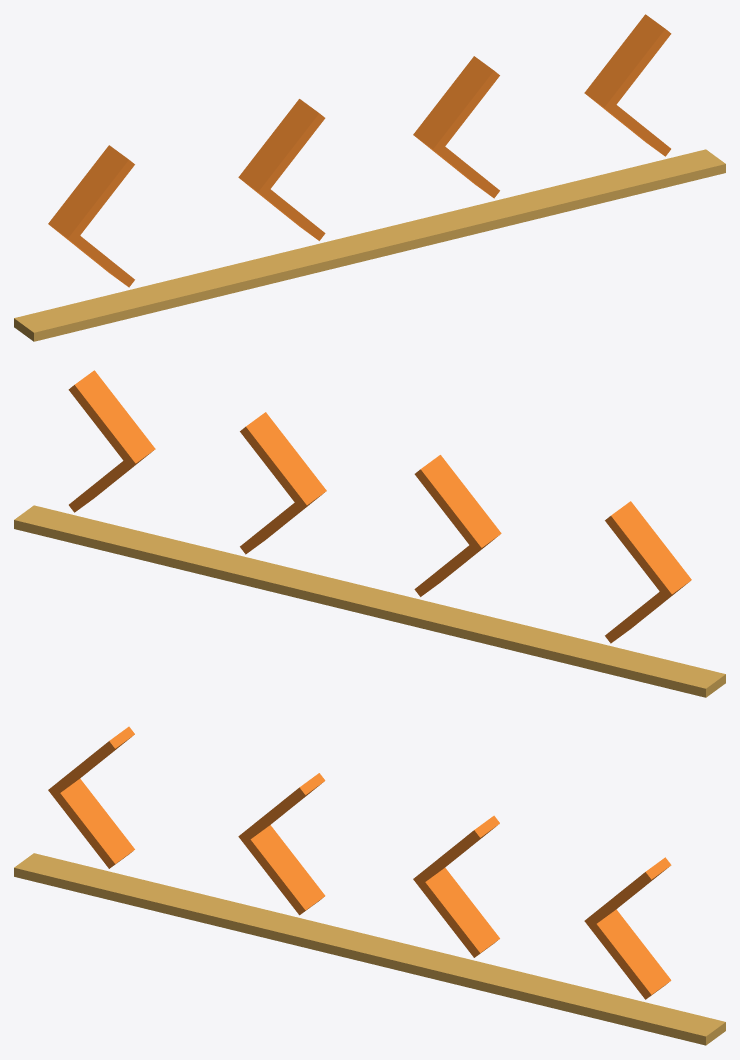
File: Flicknote.glb
3 renders of one model, top to bottom at view 1: azimuth 30°, elevation 25°; view 2: azimuth 150°, elevation 25°; view 3: azimuth 330°, elevation 25°, orthographic.
Visible parts, largest first — view 1: NoteBase, Arrow1, Arrow4, Arrow2, Arrow3; view 2: NoteBase, Arrow1, Arrow4, Arrow2, Arrow3; view 3: NoteBase, Arrow1, Arrow3, Arrow2, Arrow4.
Boxes of the visible parts, left/top/right/bottom form: NoteBase: left=14, top=149, right=725, bottom=341; Arrow1: left=584, top=14, right=671, bottom=156; Arrow4: left=48, top=145, right=134, bottom=287; Arrow2: left=413, top=56, right=499, bottom=198; Arrow3: left=238, top=99, right=325, bottom=240; NoteBase: left=14, top=505, right=725, bottom=697; Arrow1: left=68, top=370, right=155, bottom=512; Arrow4: left=605, top=501, right=691, bottom=643; Arrow2: left=240, top=412, right=326, bottom=554; Arrow3: left=414, top=455, right=501, bottom=596; NoteBase: left=14, top=853, right=725, bottom=1045; Arrow1: left=584, top=857, right=671, bottom=999; Arrow3: left=238, top=773, right=325, bottom=915; Arrow2: left=413, top=815, right=499, bottom=957; Arrow4: left=48, top=726, right=134, bottom=868.
Bounding box in the file's own units: 4 × 0.8782 × 0.2.
